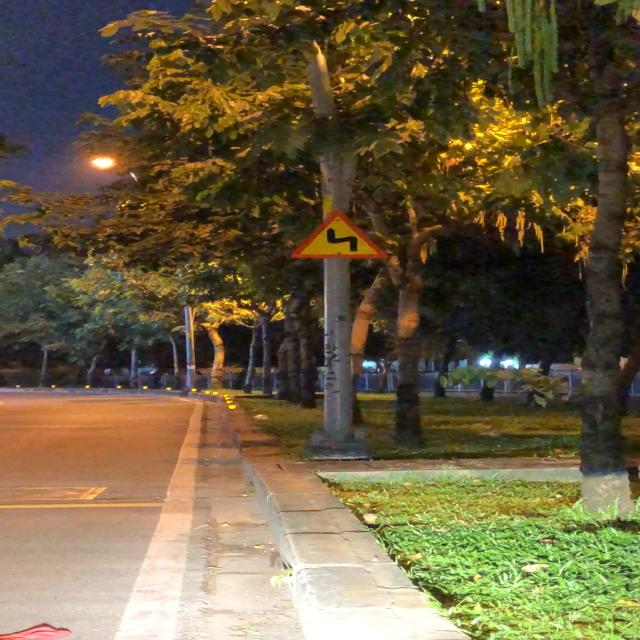Bien bao nhieu cho ngoat nguy hiem lien tiep: (282, 207, 392, 261)
